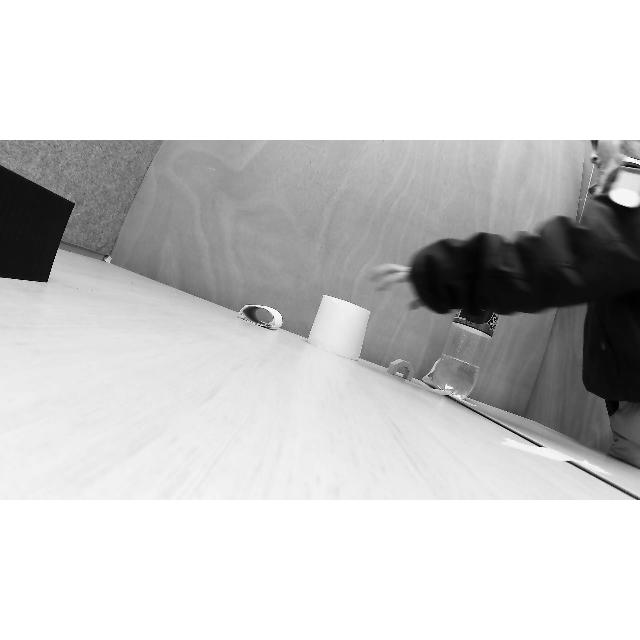targets: (429, 259, 519, 396), (0, 164, 72, 282), (307, 290, 367, 374), (236, 298, 282, 332), (382, 346, 412, 384)
